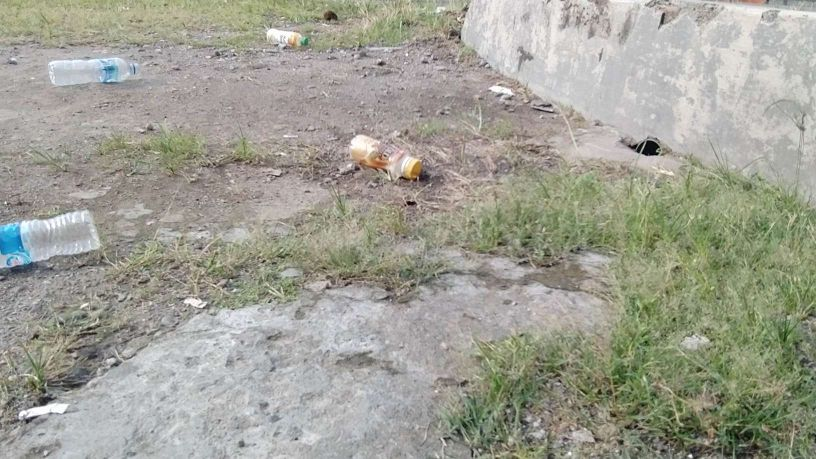botol: (5, 200, 104, 270), (334, 120, 431, 189), (35, 46, 143, 88), (255, 18, 307, 56)
